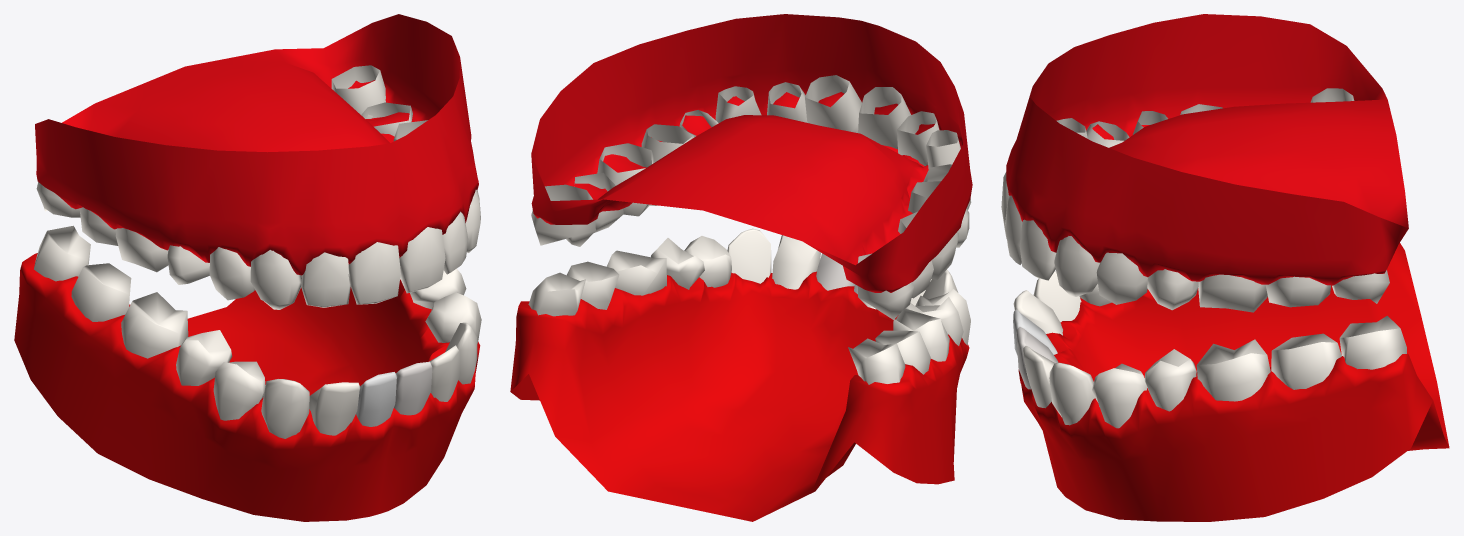
3 renders of one model, left to right at view 1: azimuth 30°, elevation 25°; view 2: azimuth 150°, elevation 25°; view 3: azimuth 270°, elevation 25°, orthographic.
Parts seen in each view (by area): view 1: upper, lower, 46, 47, 11, 44, 43, 48, 12, 21, 45, 13 (+16 smaller); view 2: lower, upper, 21, 11, 36, 48, 33, 32, 38, 28, 46, 37 (+17 smaller); view 3: upper, lower, 36, 37, 38, 34, 35, 33, 26, 24, 23, 27 (+10 smaller).
Boxes of the visible parts, x1,y1,x2,y2 form: upper: (35,14,478,275); lower: (14,253,480,521); 46: (121,292,188,358); 47: (71,263,131,321); 11: (348,242,400,304); 44: (213,361,265,420); 43: (261,379,309,438); 48: (34,225,90,281); 12: (301,252,350,307); 21: (399,227,445,293); 45: (176,330,232,385); 13: (250,250,301,309); lower: (510,271,969,521); upper: (531,14,972,292); 21: (805,75,861,132); 11: (858,87,910,149); 36: (606,250,666,295); 48: (848,338,905,384); 33: (727,228,771,283); 32: (772,235,820,289); 38: (528,272,585,316); 28: (531,184,595,246); 46: (893,308,949,361); 37: (567,261,619,309); upper: (1006,14,1408,285); lower: (1018,243,1449,521); 36: (1196,339,1270,401); 37: (1271,333,1341,389); 38: (1339,315,1406,369); 34: (1092,363,1147,428); 35: (1144,349,1196,411); 33: (1049,362,1094,425); 26: (1198,274,1267,312); 24: (1096,252,1148,304); 23: (1054,236,1099,296); 27: (1265,276,1330,307).
Bounding box in the file's own units: 0.0773 × 0.0745 × 0.078.
